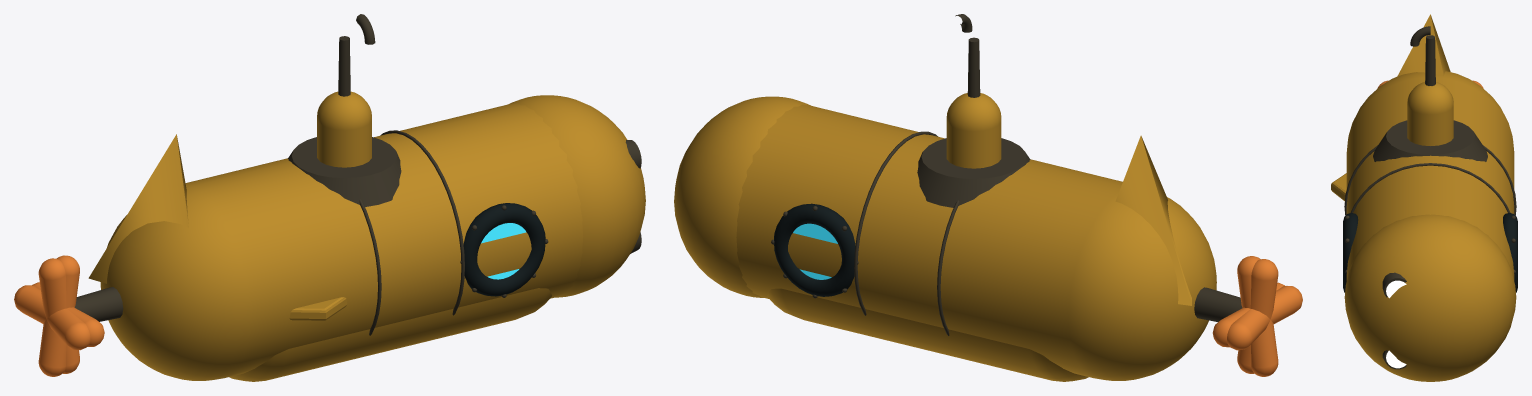
File: submarine.glb
The picture shows the model from 3 angles, left to right: view 1: azimuth 30°, elevation 25°; view 2: azimuth 150°, elevation 25°; view 3: azimuth 270°, elevation 25°; orthographic projection. The views are drawn at different scales.
Parts seen in each view (by area): view 1: main_pressure_hull, reinforced_bow, lower_pressure_hull, propeller_blade (×4), tower_base, vertical_tail_fin, viewport_seal_starboard, conning_tower, hull_weld_seam (×2), propeller_shaft, dive_plane, periscope_mast (+1 smaller); view 2: main_pressure_hull, reinforced_bow, lower_pressure_hull, propeller_blade (×4), tower_base, viewport_seal_port, conning_tower, vertical_tail_fin, hull_weld_seam (×2), propeller_shaft, periscope_mast, viewport_glass_port; view 3: reinforced_bow, main_pressure_hull, conning_tower, tower_base, vertical_tail_fin, hull_weld_seam (×2), viewport_seal_starboard, viewport_seal_port, periscope_mast, bow_lamp (×2), dive_plane, periscope_head (+1 smaller).
Part boxes in pixels (left/top/right/bottom): main_pressure_hull: left=100, top=103, right=583, bottom=380; reinforced_bow: left=509, top=95, right=645, bottom=297; lower_pressure_hull: left=229, top=288, right=551, bottom=381; propeller_blade (×4): left=14, top=255, right=104, bottom=376; tower_base: left=288, top=137, right=401, bottom=206; vertical_tail_fin: left=88, top=134, right=188, bottom=283; viewport_seal_starboard: left=463, top=203, right=545, bottom=296; conning_tower: left=317, top=91, right=371, bottom=167; hull_weld_seam (×2): left=359, top=130, right=464, bottom=335; propeller_shaft: left=75, top=287, right=123, bottom=321; dive_plane: left=289, top=297, right=347, bottom=320; periscope_mast: left=338, top=36, right=350, bottom=96; main_pressure_hull: left=736, top=104, right=1216, bottom=380; reinforced_bow: left=674, top=96, right=810, bottom=297; lower_pressure_hull: left=767, top=288, right=1088, bottom=381; propeller_blade (×4): left=1212, top=256, right=1302, bottom=376; tower_base: left=917, top=138, right=1030, bottom=207; viewport_seal_port: left=774, top=203, right=855, bottom=296; conning_tower: left=946, top=93, right=1001, bottom=168; vertical_tail_fin: left=1115, top=135, right=1191, bottom=305; hull_weld_seam (×2): left=854, top=131, right=959, bottom=335; propeller_shaft: left=1194, top=287, right=1242, bottom=321; periscope_mast: left=967, top=37, right=980, bottom=97; viewport_glass_port: left=793, top=223, right=837, bottom=279; reinforced_bow: left=1344, top=214, right=1516, bottom=381; main_pressure_hull: left=1346, top=71, right=1514, bottom=280; conning_tower: left=1407, top=82, right=1453, bottom=145; tower_base: left=1373, top=120, right=1487, bottom=161; vertical_tail_fin: left=1397, top=14, right=1450, bottom=76; hull_weld_seam (×2): left=1344, top=145, right=1516, bottom=215; viewport_seal_starboard: left=1343, top=212, right=1358, bottom=292; viewport_seal_port: left=1503, top=213, right=1517, bottom=292; periscope_mast: left=1425, top=35, right=1435, bottom=85; bow_lamp (×2): left=1386, top=280, right=1406, bottom=368; dive_plane: left=1331, top=173, right=1346, bottom=201; periscope_head: left=1410, top=26, right=1430, bottom=46.
Bounding box in the file's own units: 4.39 × 2.36 × 1.43.
